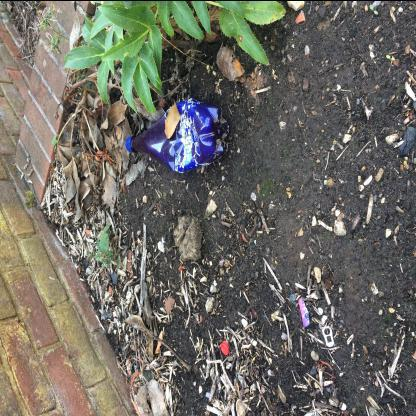plastik: (127, 98, 230, 174)
